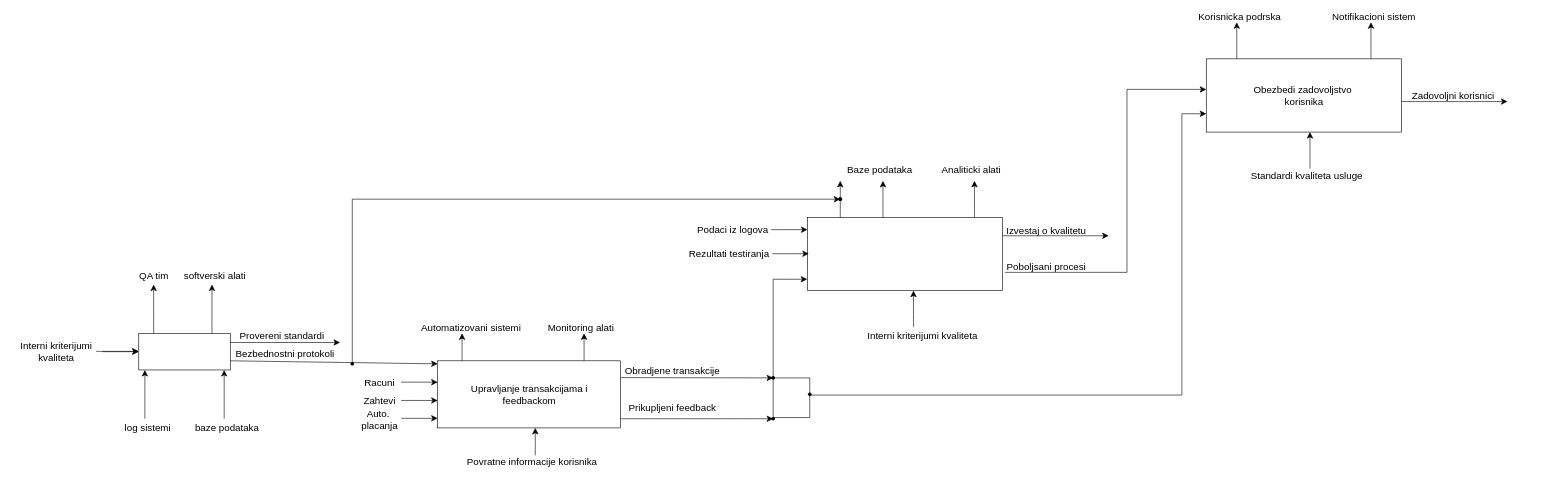
The diagram is 1552 pixels wide and 478 high, and some of its shapes have lost their labels. Here are the shapes that lost their labels. From the top down, the centre of each, then its label:
pixel 905 254: Generisi izvestaje i unapredi procese
pixel 184 351: Standardi bezbednosti
